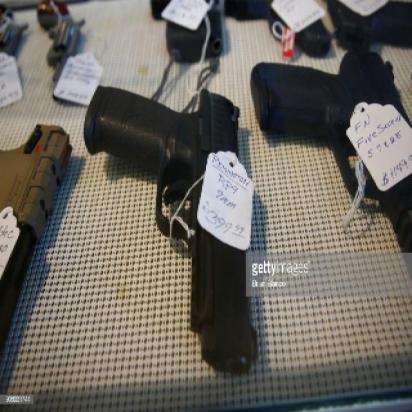Gun: (80, 80, 252, 373)
